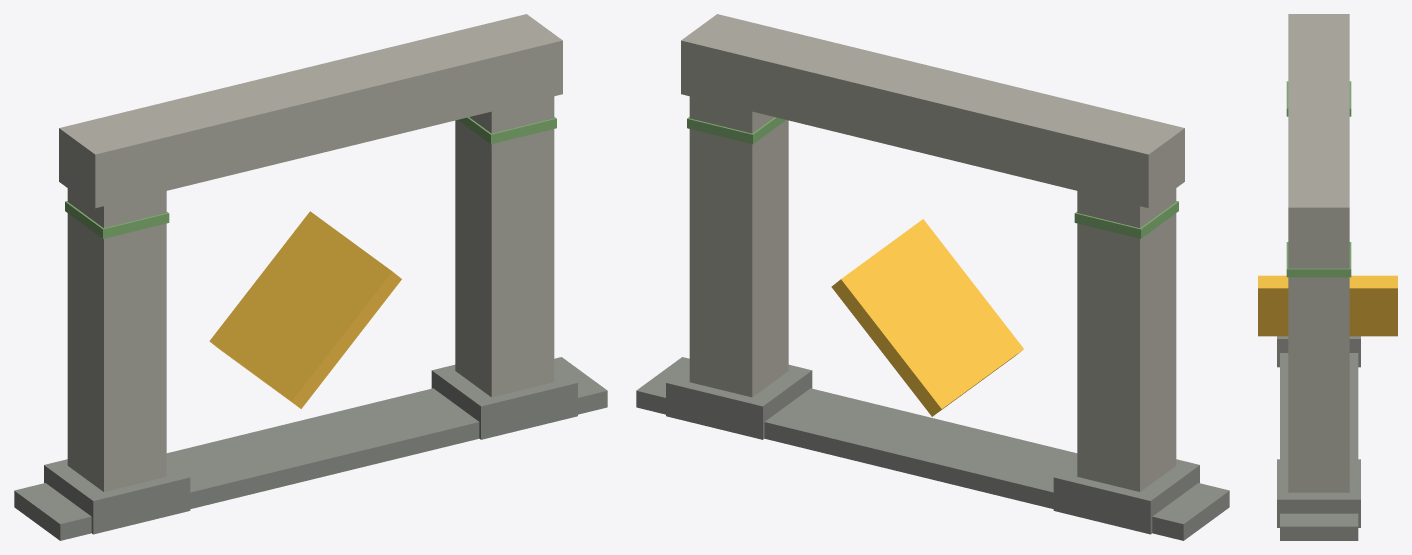
The model's file is wildlands_altar.glb.
3 views of the same model, side by side, from view 1: azimuth 30°, elevation 25°; view 2: azimuth 150°, elevation 25°; view 3: azimuth 270°, elevation 25° (orthographic). The views are drawn at different scales.
Visible parts, largest first — view 1: wildlands_altar; view 2: wildlands_altar; view 3: wildlands_altar.
Part boxes in pixels (left/top/right/bottom): wildlands_altar: left=14, top=14, right=607, bottom=540; wildlands_altar: left=636, top=14, right=1229, bottom=540; wildlands_altar: left=1258, top=14, right=1397, bottom=540.
Size of the model in its own units: 4.8 by 3.12 by 1.25.
